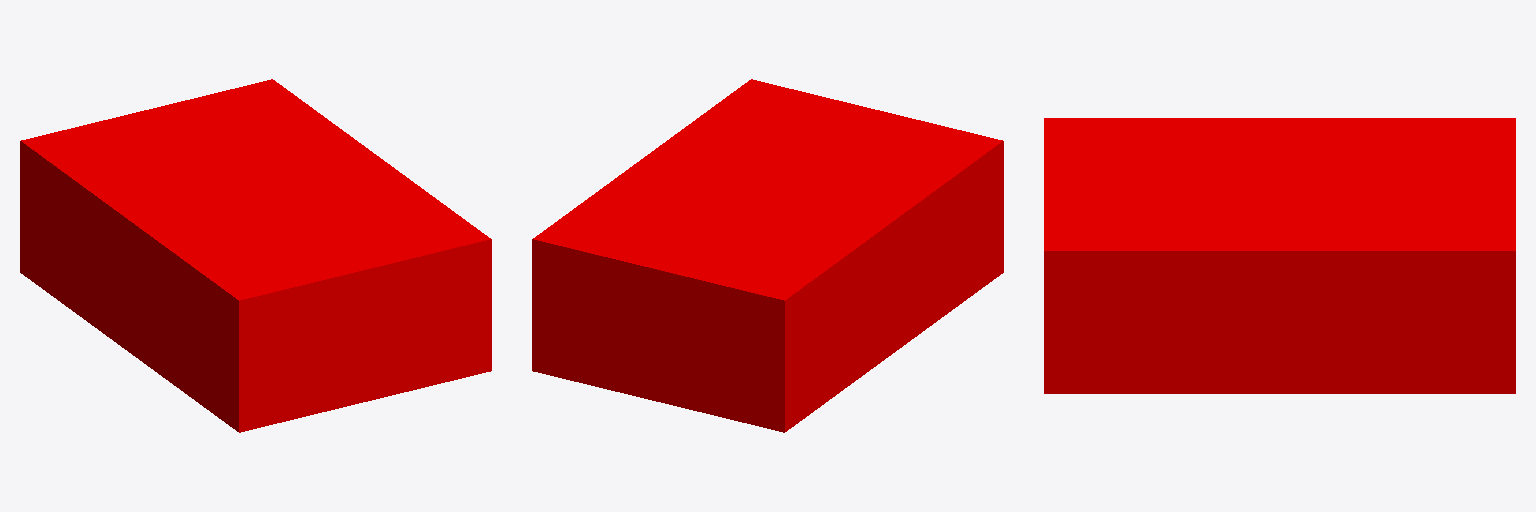
URDF robot description (bot):
<?xml version="1.0" ?>
<robot name="bot" xmlns:xacro="http://www.ros.org/wiki/xacro">

    <link name="base_footprint"/>

    <link name="base_link">
        <visual>
            <origin xyz="0.0 0.0 0.0" rpy="0.0 0.0 0.0"/>
            <geometry>
                <box size="0.1 0.15 0.05"/>
            </geometry>
            <material name="red">
                <color rgba="1.0 0.0 0.0 1.0"/>
            </material>
        </visual>
    </link>

    <joint name="base_joint" type="fixed">
        <origin xyz="0.0 0.0 0.1" rpy="0.0 0.0 0.0"/>
        <parent link="base_footprint"/>
        <child link="base_link"/>
    </joint>

</robot>

--- Render facts (derived) ---
3 views of the same robot in one strip: view 1: azimuth 30°, elevation 25°; view 2: azimuth 150°, elevation 25°; view 3: azimuth 270°, elevation 25° (orthographic).
Model bot with 2 links and 1 joints (1 fixed), rooted at base_footprint, posed every joint at zero.
Links seen in each view (by area): view 1: base_link; view 2: base_link; view 3: base_link.
Boxes of the visible links, bbox=[...] form: base_link: bbox=[20, 79, 491, 432]; base_link: bbox=[532, 79, 1003, 432]; base_link: bbox=[1044, 118, 1515, 393].
Size in the robot's own frame: 0.1 by 0.15 by 0.05 metres.
Geometry: primitives only (box / cylinder / sphere), no mesh files.